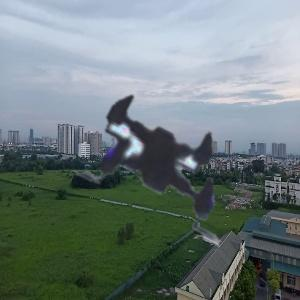drone: (19, 22, 298, 300)
